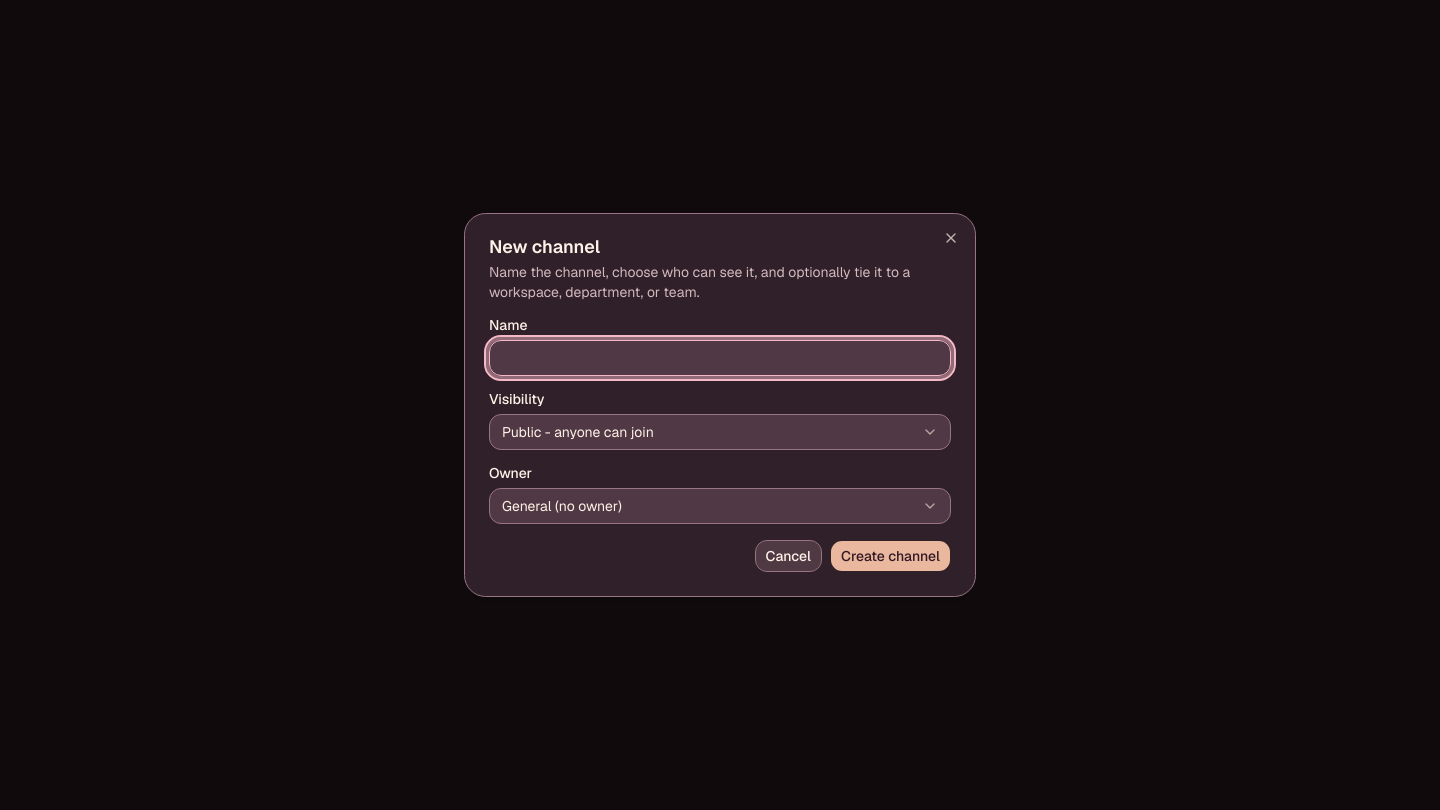
CreateChannelDialog › surfaces an owner-invalid outcome
Type "Broken" into the field labelled "Name" at (720,358), box top-left (489, 340), bottom-right (951, 376)
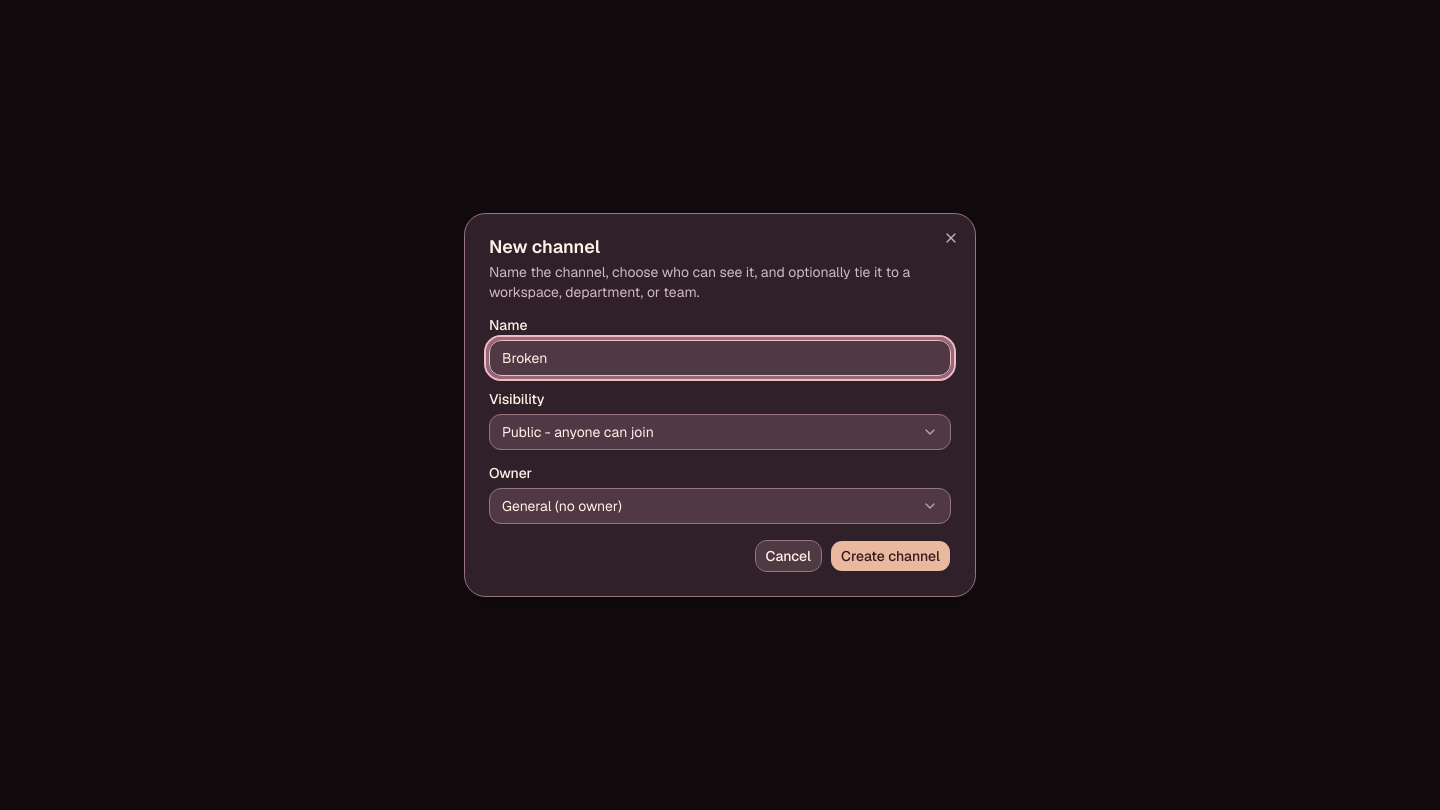
Click the button "Create channel" at (891,556), box top-left (830, 540), bottom-right (951, 572)
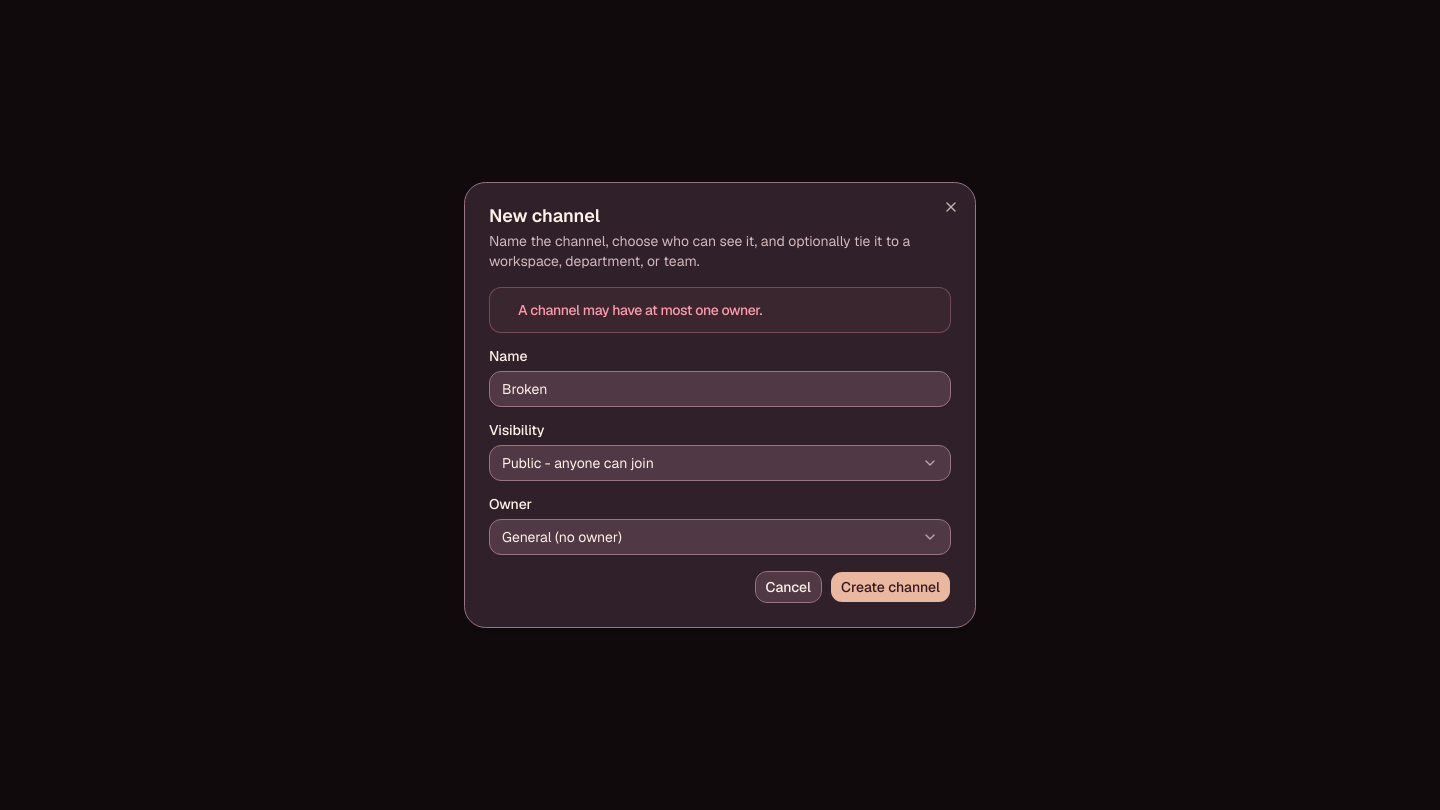
Expected: the text "A channel may have at most one owner." is shown, top-left (518, 301), bottom-right (762, 319)
